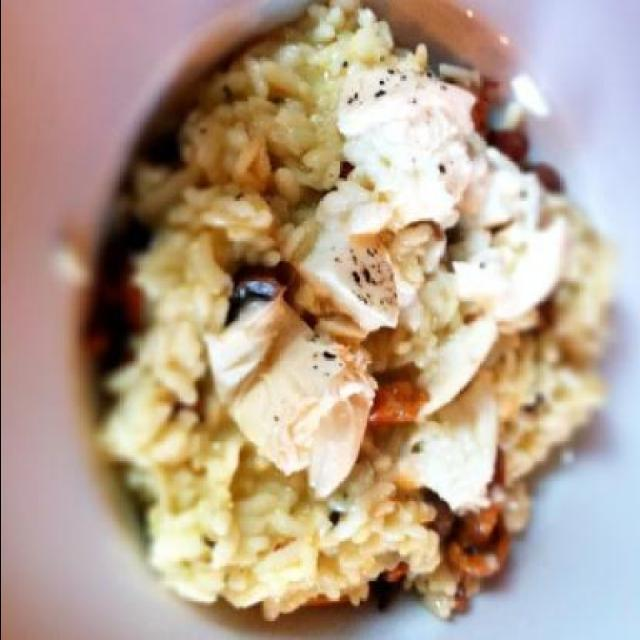Risotto: (138, 37, 606, 600)
